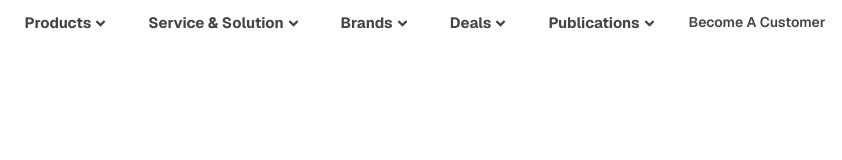
Test: Nav header Component › opens and closes Products menu
The image size is (842, 160).
What coordinates should you click on to do the following:
click the button "Products"
I would click on:
 (66, 23)
Its box is [16,12,116,34].
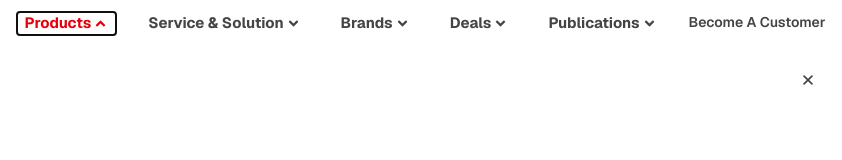
Expected: the button named "closemenu" is shown
# Close via X button
What coordinates should you click on to do the following:
click the button named "closemenu"
I would click on:
 (808, 80)
Its box is [799,70,817,88].
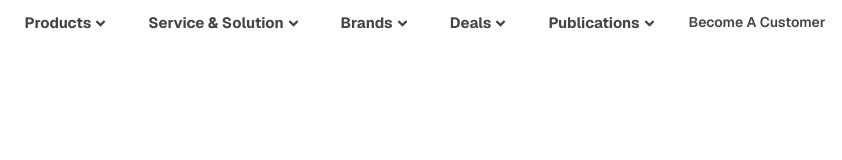
Expected: the button "closemenu" is gone
